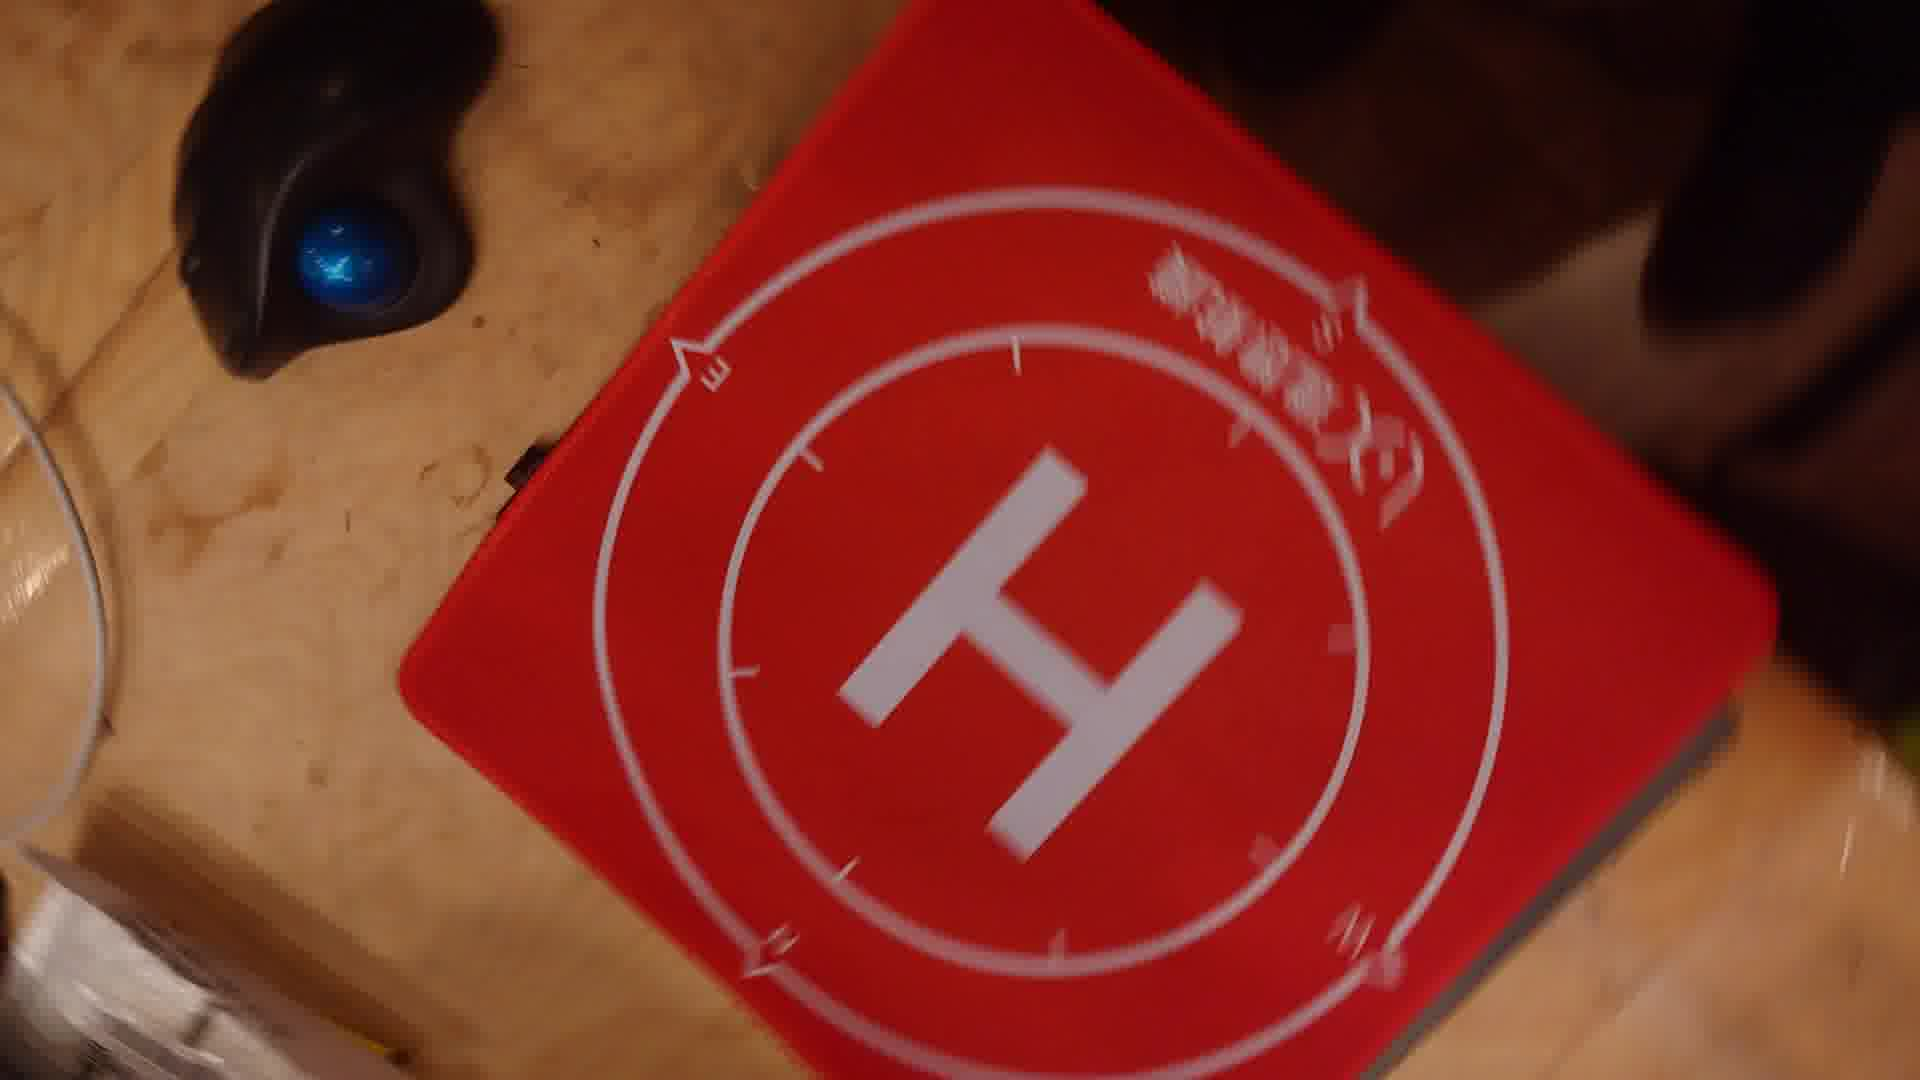H: (837, 447, 1250, 862)
